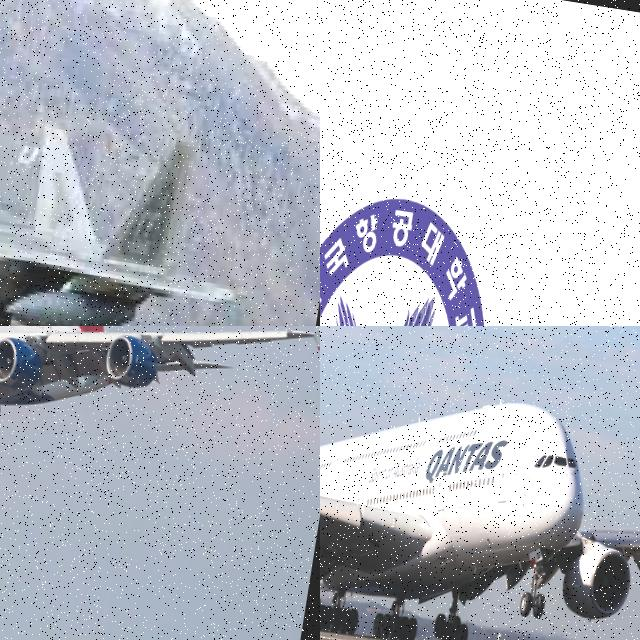A380: (320, 326, 640, 640), (0, 326, 320, 495)
F22: (0, 87, 252, 326)
KAU_Marker: (320, 181, 511, 326)
